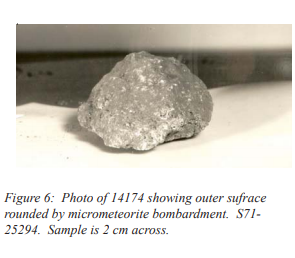Breccia: (93, 43, 199, 139), (180, 114, 192, 125)
